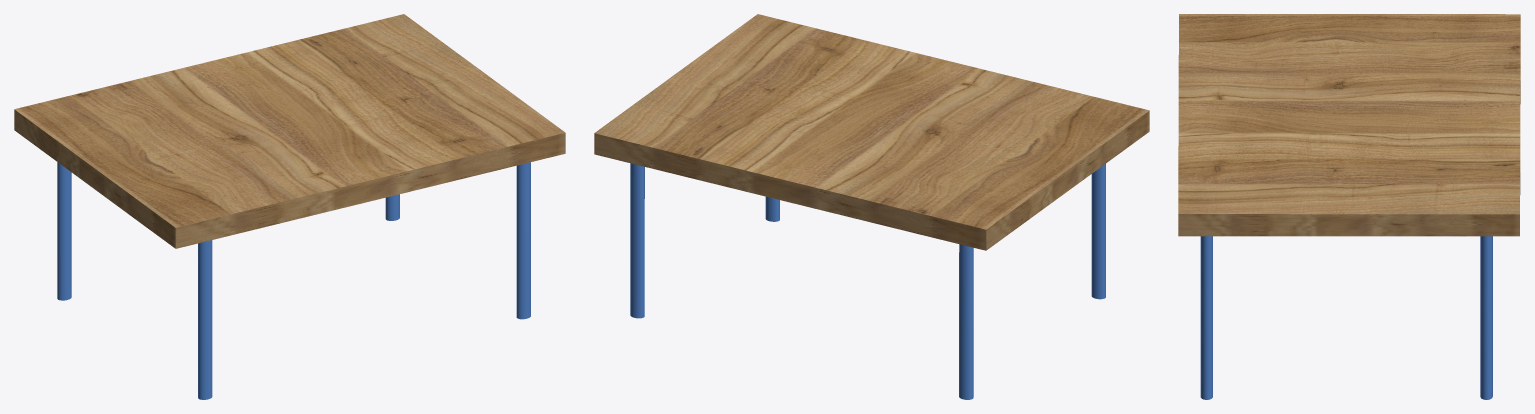
Rendered from table.DAE.
The picture shows the model from 3 angles, left to right: view 1: azimuth 30°, elevation 25°; view 2: azimuth 150°, elevation 25°; view 3: azimuth 270°, elevation 25°; orthographic projection. The views are drawn at different scales.
Parts seen in each view (by area): view 1: Box001, Tube002, Tube003, Tube001; view 2: Box001, Tube001, Tube004, Tube002; view 3: Box001, Tube003, Tube004.
Part boxes in pixels (left/top/right/bottom): Box001: left=14, top=14, right=565, bottom=248; Tube002: left=198, top=240, right=212, bottom=399; Tube003: left=516, top=162, right=530, bottom=319; Tube001: left=57, top=162, right=71, bottom=300; Box001: left=594, top=14, right=1149, bottom=250; Tube001: left=959, top=244, right=973, bottom=399; Tube004: left=630, top=163, right=644, bottom=318; Tube002: left=1091, top=164, right=1105, bottom=299; Box001: left=1178, top=14, right=1520, bottom=236; Tube003: left=1200, top=236, right=1212, bottom=399; Tube004: left=1480, top=236, right=1492, bottom=399.
Size of the model in its own units: 61.29 by 44.18 by 28.13.
Materials: 2 (1 with a texture image).
